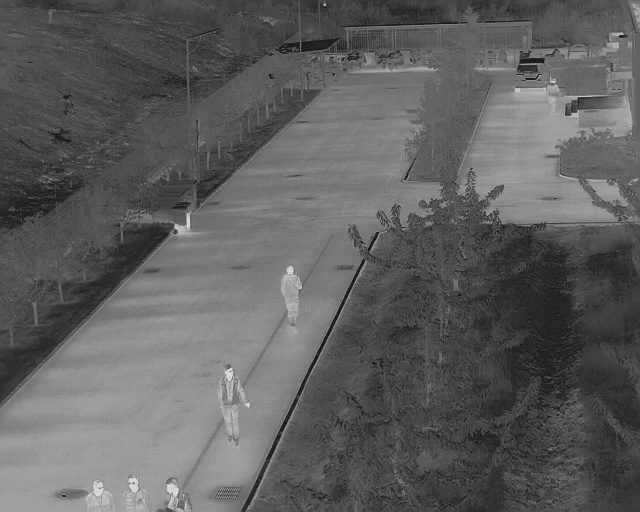person: (213, 361, 251, 449), (278, 261, 306, 330), (116, 473, 154, 511), (155, 476, 195, 511), (86, 477, 116, 512), (546, 76, 558, 116)
vehicle: (512, 54, 551, 92)
